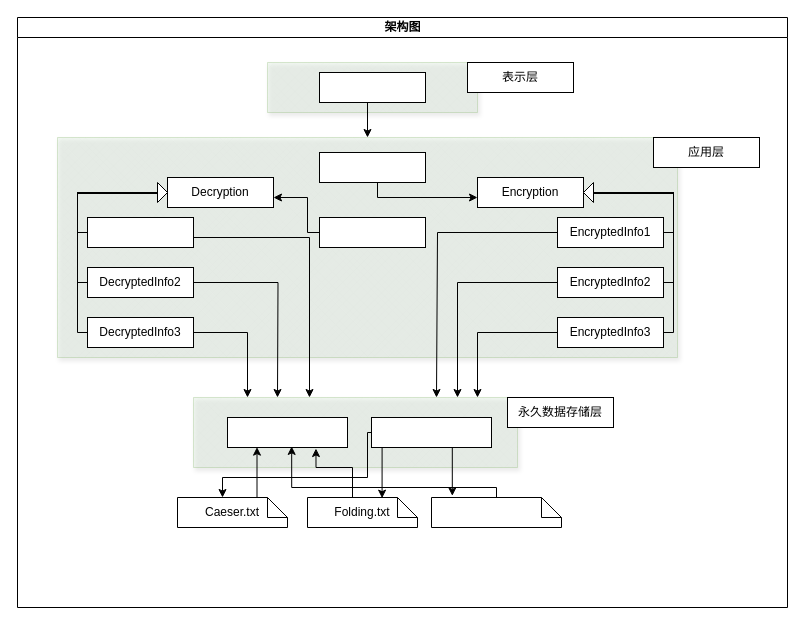
This 805x625 diagram has some shape labels left out. The centre of each missing label's shape, as x and y in pixels:
ClientGUI: (x=372, y=87)
DecryContext: (x=372, y=232)
DecryptedInfo1: (x=140, y=232)
EncryContext: (x=372, y=167)
Group-swap.txt: (x=496, y=512)
TxtFileReader: (x=287, y=432)
TxtFileWriter: (x=431, y=432)
